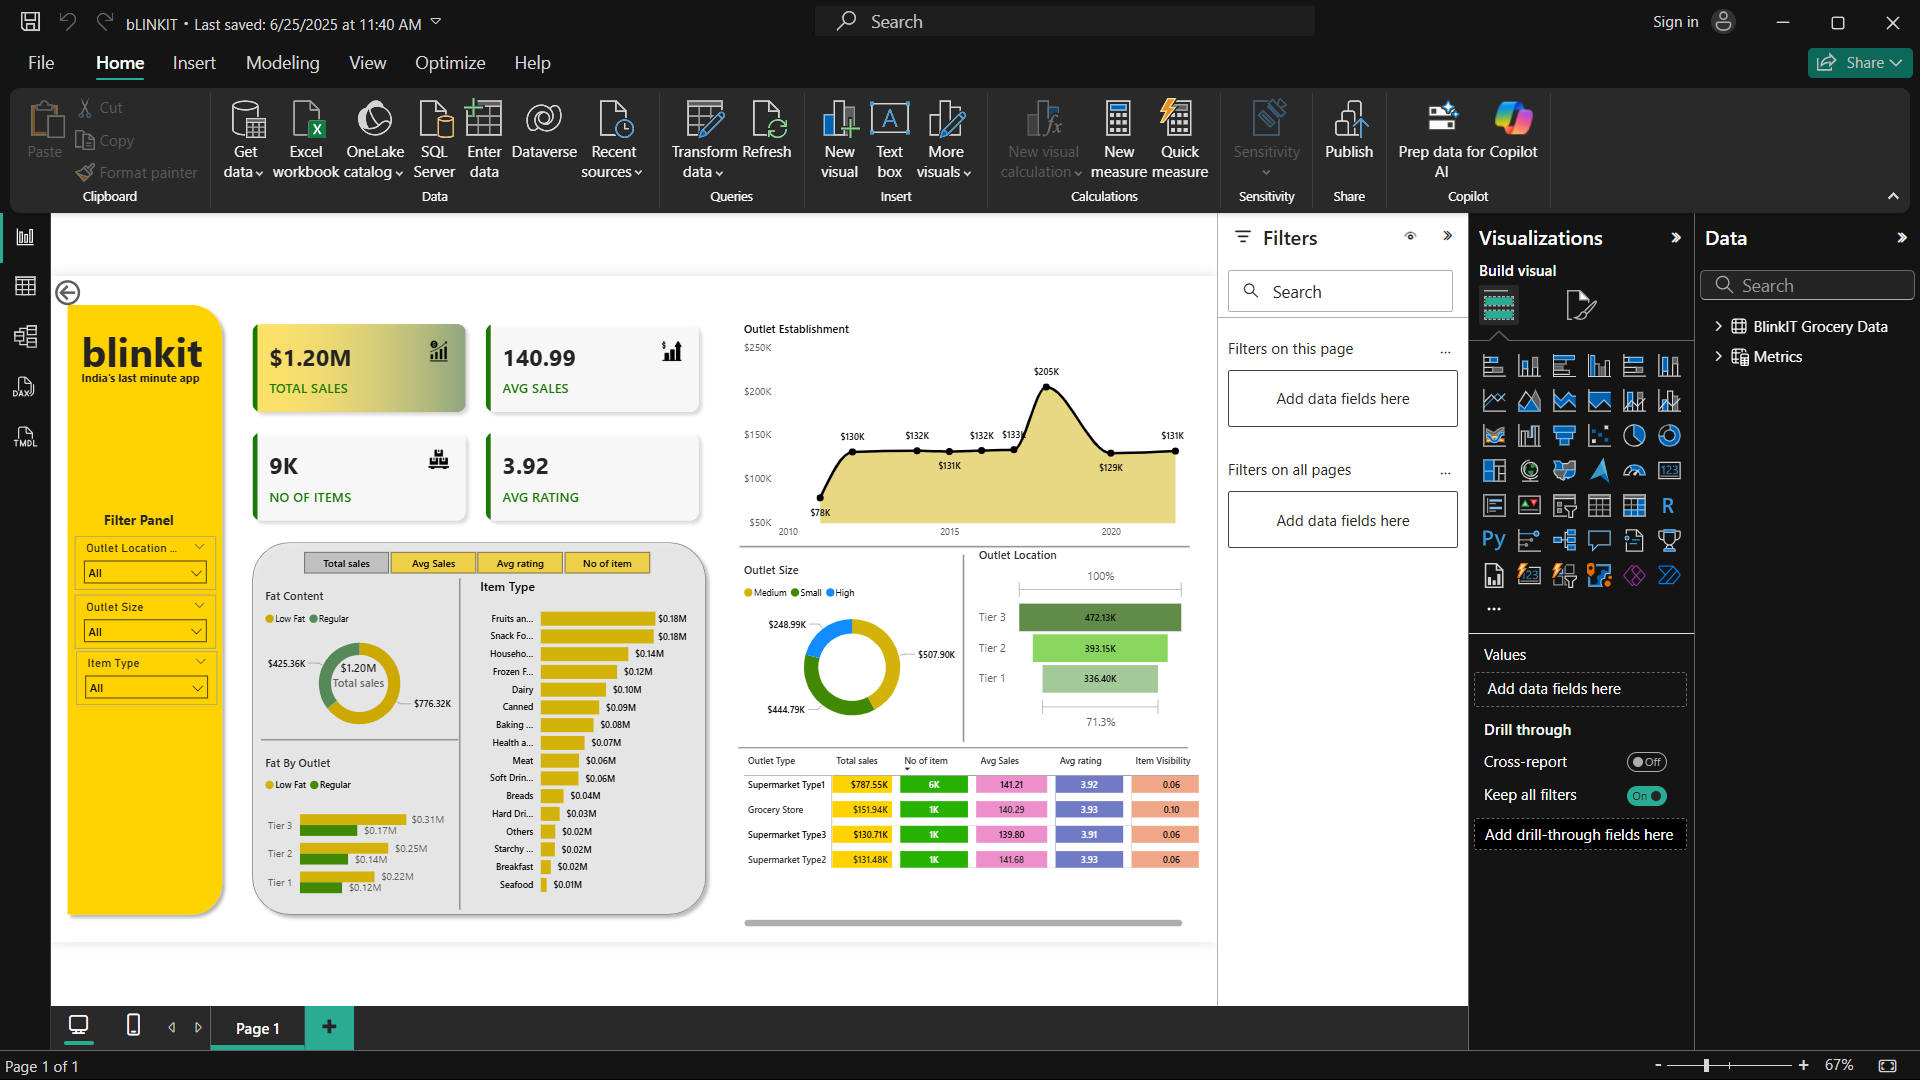

The dashboard page shown, as its layout file describes it:
{"tool":"powerbi","page":{"name":"Page 1","canvas":[1400,800],"ordinal":0},"visuals":[{"type":"shape","box":[10.5,25.5,204.1,750.4],"z":0},{"type":"textbox","box":[31.5,52.5,183.1,91.6],"z":1000},{"type":"textbox","box":[31.5,108.1,183.1,36],"z":2000},{"type":"actionButton","box":[0,0,100,40],"z":3000},{"type":"cardVisual","fields":{"Data":["BlinkIT Grocery Data.Total sales","BlinkIT Grocery Data.Avg Sales","BlinkIT Grocery Data.No of item","BlinkIT Grocery Data.Avg rating"]},"box":[225.1,40.5,570.3,270.2],"z":4000},{"type":"shape","box":[232.6,310.7,562.8,465.3],"z":5000},{"type":"slicer","fields":{"Values":["Metrics.Metrics"]},"box":[277.3,324.3,465.5,39.4],"z":6000},{"type":"donutChart","title":"Fat Content","fields":{"Y":["BlinkIT Grocery Data.Total sales"],"Category":["BlinkIT Grocery Data.Item Fat Content"]},"box":[252.1,375.2,237.1,183.1],"z":7000},{"type":"cardVisual","fields":{"Data":["BlinkIT Grocery Data.Total sales"]},"box":[319.7,444.3,99.1,60],"z":8000},{"type":"clusteredBarChart","title":"Fat By Outlet","fields":{"Y":["BlinkIT Grocery Data.Total sales"],"Category":["BlinkIT Grocery Data.Outlet Location Type"],"Series":["BlinkIT Grocery Data.Item Fat Content"]},"box":[252.1,574.8,225.1,186.1],"z":9000},{"type":"shape","box":[252.1,499.8,237.1,114.1],"z":10000},{"type":"shape","box":[321.2,363.2,339.2,397.7],"z":11000},{"type":"barChart","title":" Item Type","fields":{"Y":["BlinkIT Grocery Data.Total sales"],"Category":["BlinkIT Grocery Data.Item Type"]},"box":[510.3,361.7,258.1,391.7],"z":12000},{"type":"lineChart","title":" Outlet Establishment ","fields":{"Category":["BlinkIT Grocery Data.Outlet Establishment Year"],"Y":["BlinkIT Grocery Data.Total sales"]},"box":[827,54,540.3,270.2],"z":13000},{"type":"shape","box":[827,99.1,540.3,451.8],"z":14000},{"type":"donutChart","title":"Outlet Size","fields":{"Category":["BlinkIT Grocery Data.Outlet Size"],"Y":["BlinkIT Grocery Data.Total sales"]},"box":[827,343.7,270.2,207.1],"z":15000},{"type":"funnel","title":"Outlet Location ","fields":{"Category":["BlinkIT Grocery Data.Outlet Location Type"],"Y":["Sum(BlinkIT Grocery Data.Sales)"]},"box":[1109.1,325.7,258.1,225.1],"z":16000},{"type":"shape","box":[935,334.7,321.2,225.1],"z":17000},{"type":"shape","box":[825.5,514.8,540.3,103.6],"z":18000},{"type":"pivotTable","fields":{"Values":["BlinkIT Grocery Data.Total sales","BlinkIT Grocery Data.No of item","BlinkIT Grocery Data.Avg Sales","BlinkIT Grocery Data.Avg rating","Avg(BlinkIT Grocery Data.Item Visibility)"],"Rows":["BlinkIT Grocery Data.Outlet Type"]},"box":[827,567.3,556,219],"z":19000},{"type":"slicer","fields":{"Values":["BlinkIT Grocery Data.Outlet Location Type"]},"box":[28.5,312.2,169.6,64.5],"z":20000},{"type":"slicer","fields":{"Values":["BlinkIT Grocery Data.Outlet Size"]},"box":[28.5,382.7,169.6,64.5],"z":21000},{"type":"slicer","fields":{"Values":["BlinkIT Grocery Data.Item Type"]},"box":[30,450.3,169.6,64.5],"z":22000},{"type":"textbox","box":[58.5,276.2,129.1,34.5],"z":22001}]}

Visuals, with their boxes on the page's 1400x800 design canvas (x1, y1, x2, y2). These are canvas units, not pixel positions in the 1920x1080 screenshot, which may show the page scaled, cropped or inside an application window:
shape: <region>10, 26, 215, 776</region>
textbox: <region>32, 52, 215, 144</region>
textbox: <region>32, 108, 215, 144</region>
actionButton: <region>0, 0, 100, 40</region>
cardVisual - BlinkIT Grocery Data.Total sales x BlinkIT Grocery Data.Avg Sales: <region>225, 40, 795, 311</region>
shape: <region>233, 311, 795, 776</region>
slicer - Metrics.Metrics: <region>277, 324, 743, 364</region>
"Fat Content" donutChart: <region>252, 375, 489, 558</region>
cardVisual - BlinkIT Grocery Data.Total sales: <region>320, 444, 419, 504</region>
"Fat By Outlet" clusteredBarChart: <region>252, 575, 477, 761</region>
shape: <region>252, 500, 489, 614</region>
shape: <region>321, 363, 660, 761</region>
" Item Type" barChart: <region>510, 362, 768, 753</region>
" Outlet Establishment " lineChart: <region>827, 54, 1367, 324</region>
shape: <region>827, 99, 1367, 551</region>
"Outlet Size" donutChart: <region>827, 344, 1097, 551</region>
"Outlet Location " funnel: <region>1109, 326, 1367, 551</region>
shape: <region>935, 335, 1256, 560</region>
shape: <region>826, 515, 1366, 618</region>
pivotTable - BlinkIT Grocery Data.Total sales x BlinkIT Grocery Data.No of item: <region>827, 567, 1383, 786</region>
slicer - BlinkIT Grocery Data.Outlet Location Type: <region>28, 312, 198, 377</region>
slicer - BlinkIT Grocery Data.Outlet Size: <region>28, 383, 198, 447</region>
slicer - BlinkIT Grocery Data.Item Type: <region>30, 450, 200, 515</region>
textbox: <region>58, 276, 188, 311</region>
